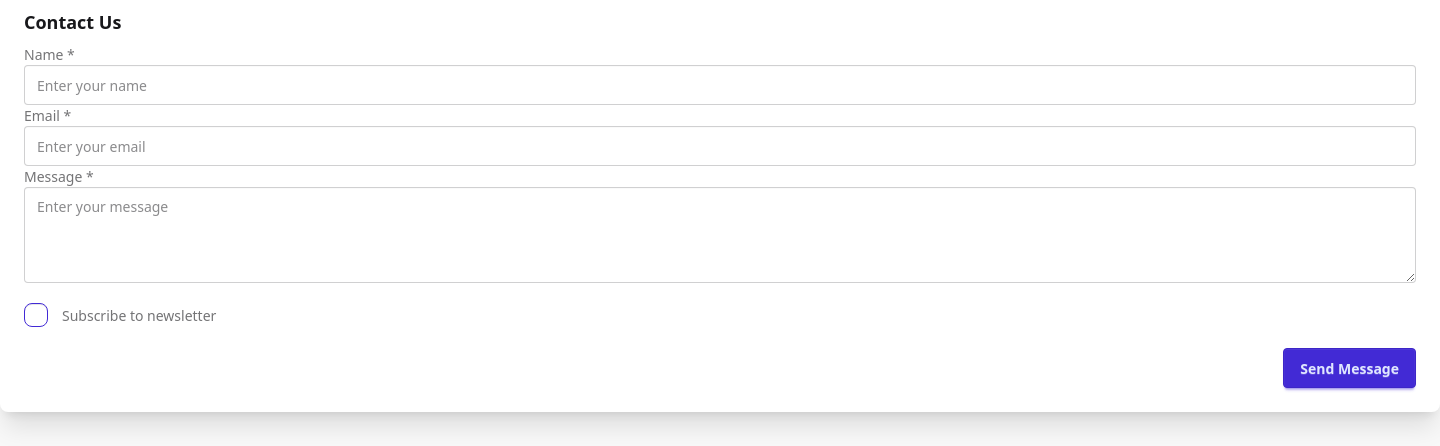
it: Test the Contact Form Component › Test succesful submission behaviour › Test Submission behaviour
Step 1. Type "John Doe" into the field labelled "Name *" → (720, 85), box top-left (24, 65), bottom-right (1416, 105)
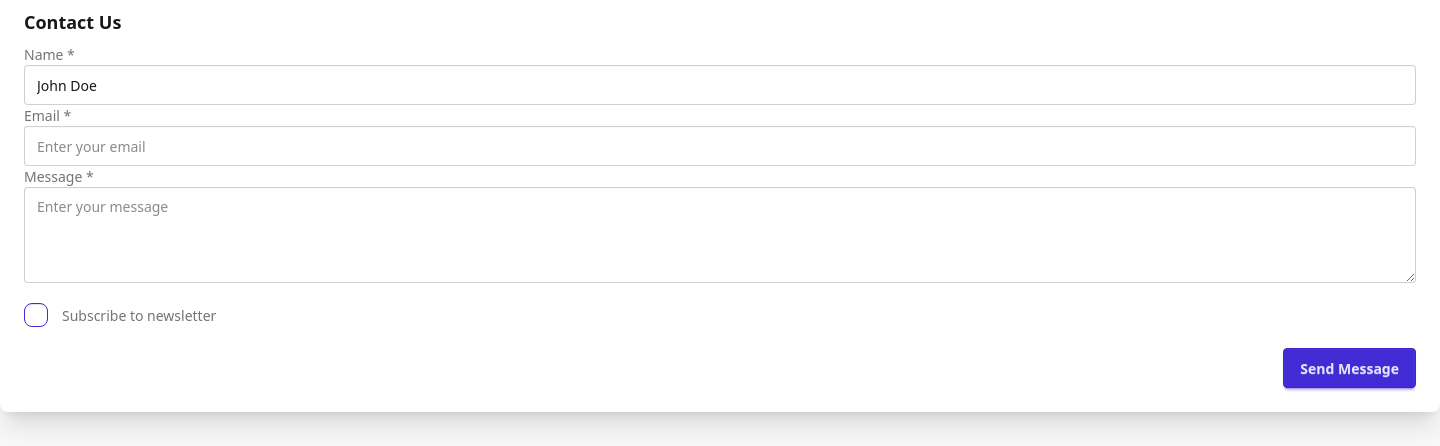
Step 2. Type "john@gmx.de" into the field labelled "Email *" → (720, 146), box top-left (24, 126), bottom-right (1416, 166)
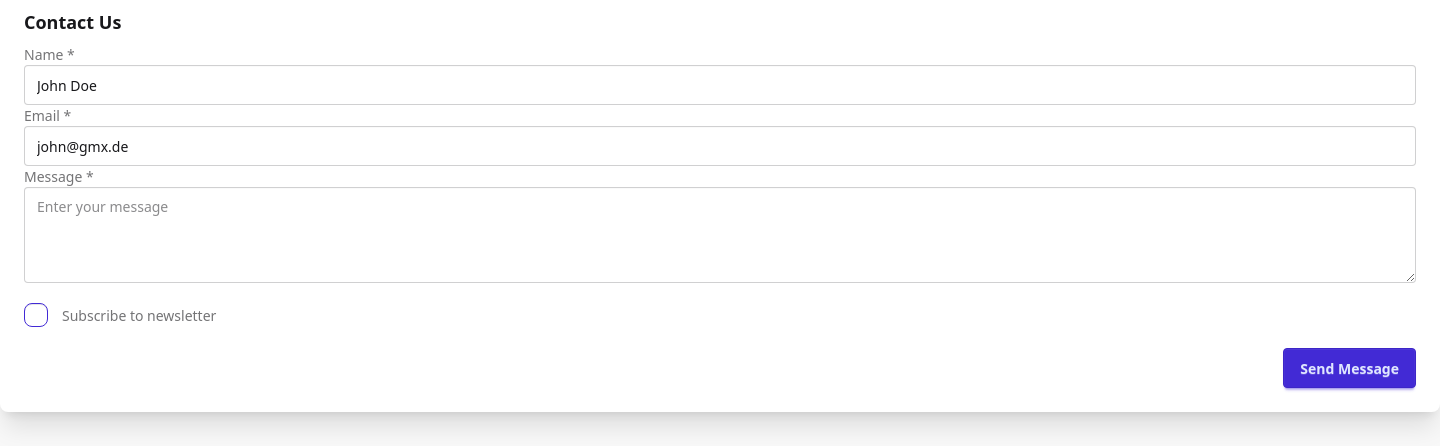
Step 3. Type "Hello World of Tests! ;)" into the text box labelled "Message *" → (720, 235), box top-left (24, 187), bottom-right (1416, 283)
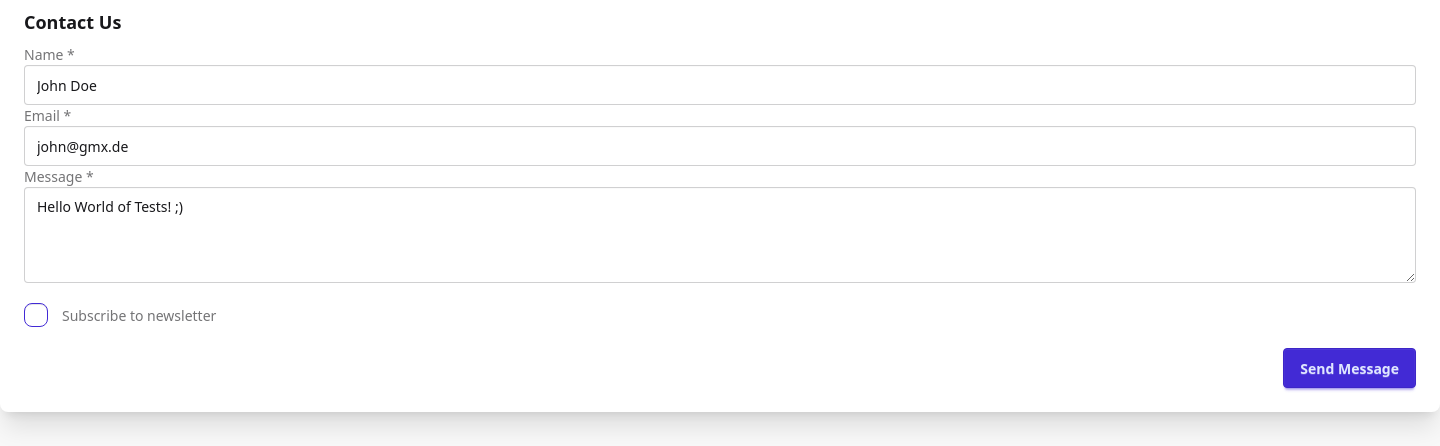
Step 4. Submit the form
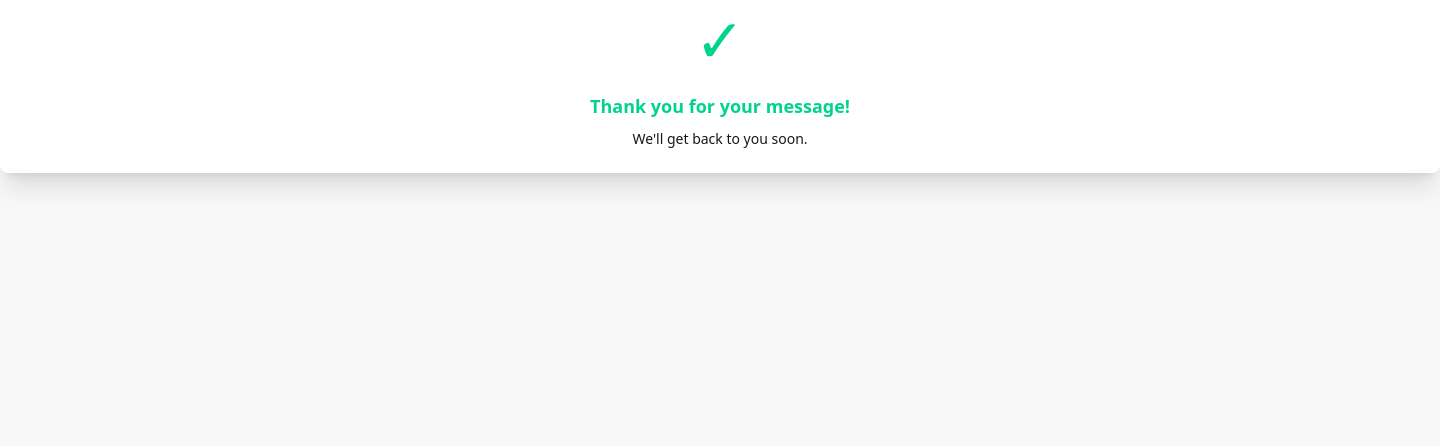
Check: the heading "Thank you for your message!" is shown, box top-left (590, 93), bottom-right (850, 120)
